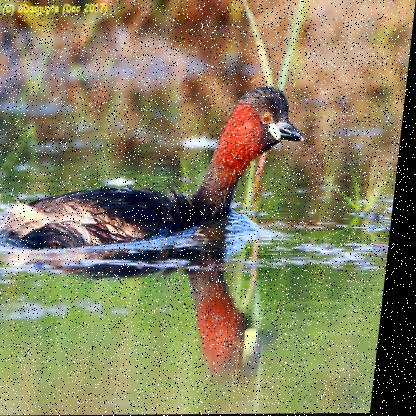Burung: (3, 86, 311, 250)
